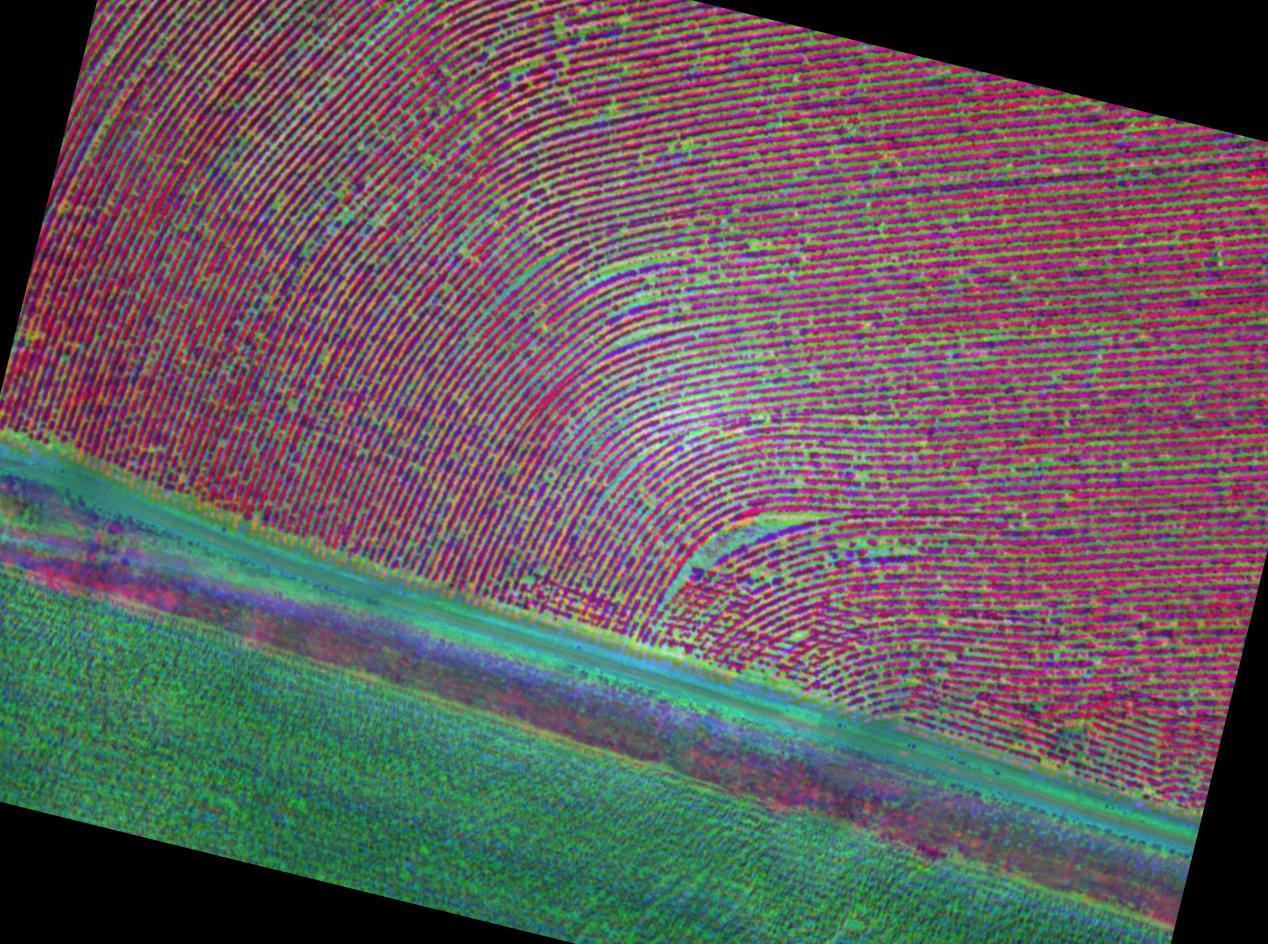dc: (508, 35, 651, 138), (688, 488, 822, 595), (583, 248, 699, 358), (228, 155, 332, 246), (308, 45, 406, 118)
